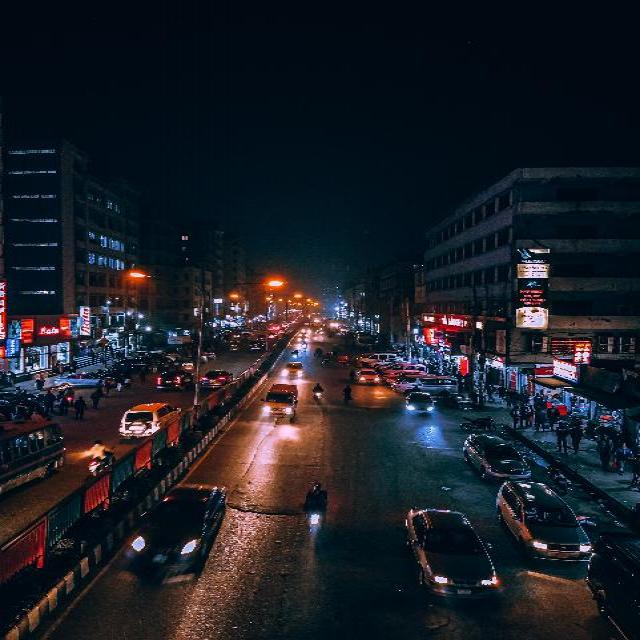bike: (302, 480, 330, 538), (87, 438, 117, 483), (540, 457, 574, 495), (459, 416, 500, 434), (309, 382, 328, 406)
vehicle: (402, 507, 501, 605), (490, 478, 592, 570), (129, 481, 231, 568), (1, 416, 69, 503), (116, 399, 184, 447), (260, 382, 301, 424), (154, 369, 195, 393), (406, 389, 436, 421), (200, 368, 234, 392), (353, 367, 379, 389), (280, 361, 306, 381)
